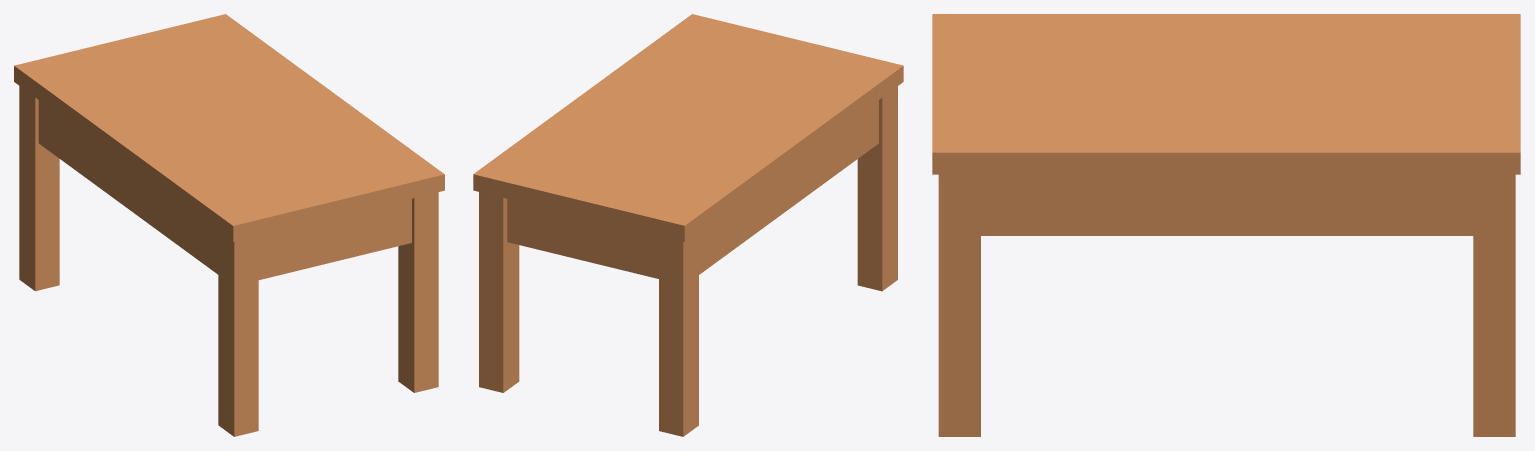
Rendered from latest11.fbx.
3 renders of one model, left to right at view 1: azimuth 30°, elevation 25°; view 2: azimuth 150°, elevation 25°; view 3: azimuth 270°, elevation 25°, orthographic. The views are drawn at different scales.
Visible parts, largest first — view 1: Ban; view 2: Ban; view 3: Ban.
Boxes of the visible parts, x1=… form: Ban: x1=14, y1=14, x2=444, y2=436; Ban: x1=473, y1=14, x2=903, y2=436; Ban: x1=932, y1=14, x2=1520, y2=436.
Size of the model in its own units: 73.26 by 70.61 by 131.
